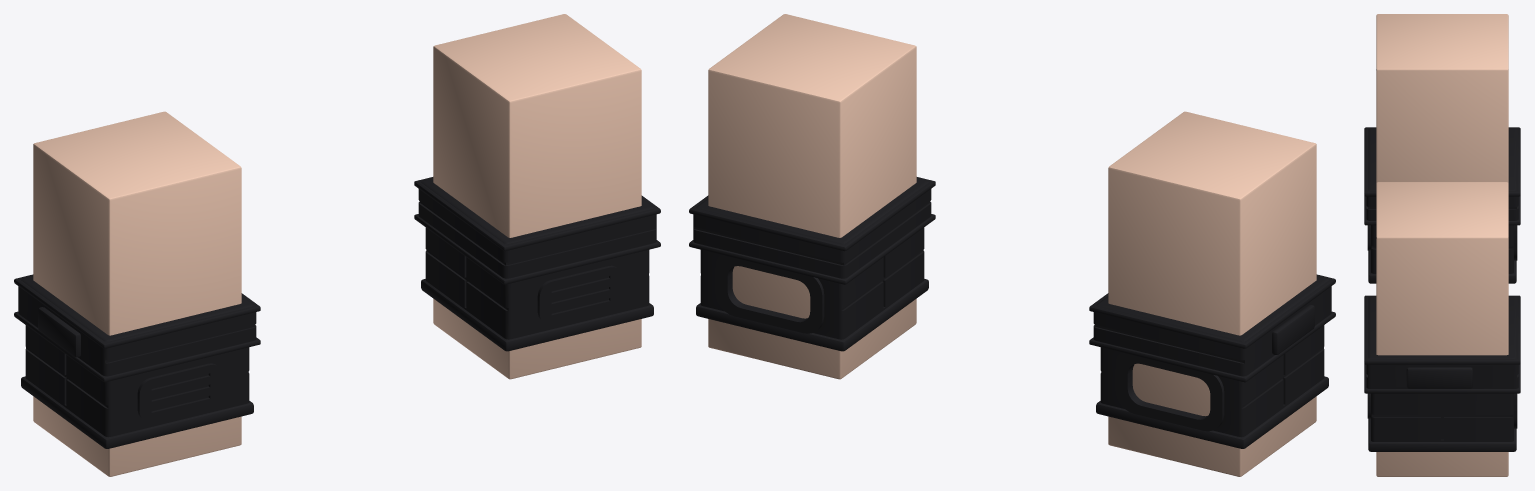
The model's file is brazos_fps.fbx.
The picture shows the model from 3 angles, left to right: view 1: azimuth 30°, elevation 25°; view 2: azimuth 150°, elevation 25°; view 3: azimuth 270°, elevation 25°; orthographic projection. The views are drawn at different scales.
Visible parts, largest first — view 1: BrazoIzquierdo, BrazoDerecho, GuanteIzquierdo, GuanteDerecho; view 2: BrazoIzquierdo, BrazoDerecho, GuanteIzquierdo, GuanteDerecho; view 3: BrazoDerecho, BrazoIzquierdo, GuanteDerecho, GuanteIzquierdo.
Part boxes in pixels (x1,y1,x2,y2): BrazoIzquierdo: (33,111,241,476); BrazoDerecho: (433,14,641,379); GuanteIzquierdo: (14,274,260,448); GuanteDerecho: (414,177,660,351); BrazoIzquierdo: (1108,111,1316,476); BrazoDerecho: (708,14,916,379); GuanteIzquierdo: (1089,274,1335,448); GuanteDerecho: (689,177,935,351); BrazoDerecho: (1376,182,1508,476); BrazoIzquierdo: (1376,14,1508,182); GuanteDerecho: (1364,295,1520,451); GuanteIzquierdo: (1364,127,1520,283).
Size of the model in its own units: 4.24 by 2 by 1.18.
